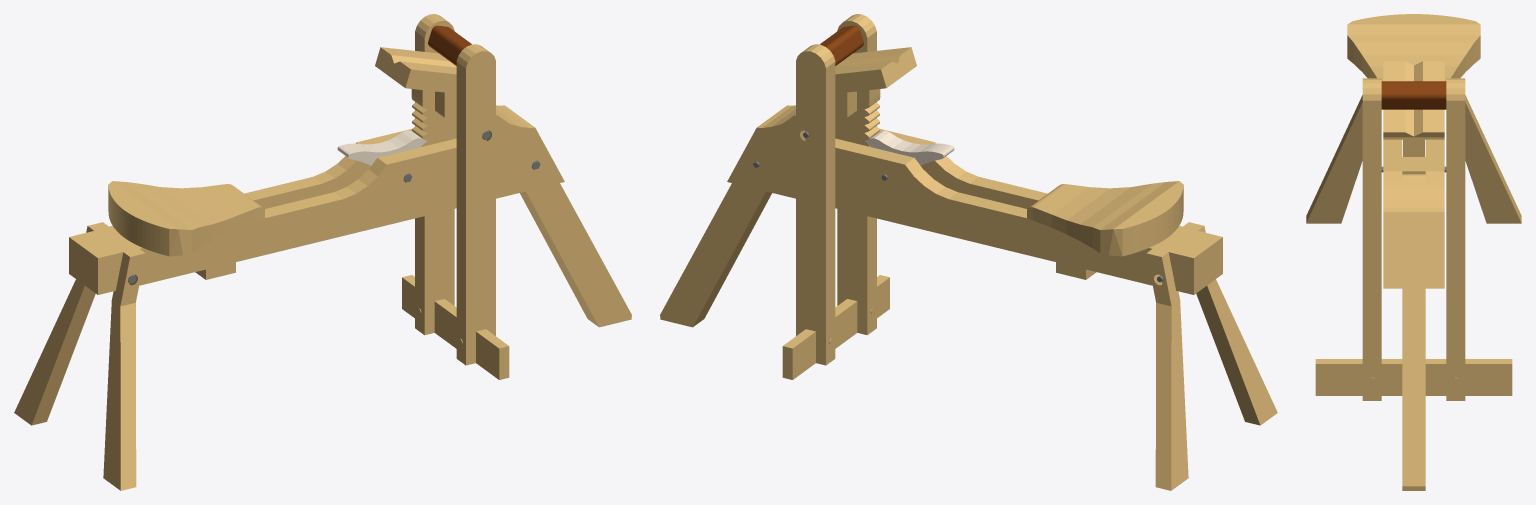
The picture shows the model from 3 angles, left to right: view 1: azimuth 30°, elevation 25°; view 2: azimuth 150°, elevation 25°; view 3: azimuth 270°, elevation 25°; orthographic projection.
Parts seen in each view (by area): view 1: Body_Bench_1, Treadle_Treadle_Beam, Legs_Leg_Rear_1, Legs_Leg_Front, Seat_Seat__2, Treadle_Treadle_Beam_1, Legs_Leg_Rear, Body_Bench, Seat_Seat__2_1, Jaw_Lower_Assy_Jaw_Lower, Treadle_Treadle_Foot_Peg, Rachet_Dove (+2 smaller); view 2: Body_Bench, Treadle_Treadle_Beam_1, Legs_Leg_Rear, Legs_Leg_Front, Seat_Seat__2_1, Treadle_Treadle_Beam, Legs_Leg_Rear_1, Body_Bench_1, Seat_Seat__2, Jaw_Lower_Assy_Jaw_Lower, Treadle_Treadle_Foot_Peg, Rachet_Dove (+2 smaller); view 3: Legs_Leg_Front, Treadle_Treadle_Beam, Treadle_Treadle_Beam_1, Treadle_Treadle_Foot_Peg, Seat_Seat__2_1, Seat_Seat__2, Legs_Leg_Rear, Legs_Leg_Rear_1, Jaw_Lower_Assy_Jaw_Lower, Body_Bench, Body_Bench_1, Treadle_Treadle_Jaw_Upper_Treadle_Jaw_Upper__8 (+3 smaller).
Boxes of the visible parts, x1,y1,x2,y2 form: Body_Bench_1: (89, 114, 564, 294); Treadle_Treadle_Beam: (456, 44, 495, 365); Legs_Leg_Rear_1: (103, 247, 145, 490); Legs_Leg_Front: (496, 110, 631, 327); Seat_Seat__2: (124, 195, 264, 256); Treadle_Treadle_Beam_1: (415, 14, 454, 335); Legs_Leg_Rear: (14, 222, 111, 425); Body_Bench: (69, 105, 513, 279); Seat_Seat__2_1: (108, 181, 247, 237); Jaw_Lower_Assy_Jaw_Lower: (375, 47, 456, 93); Treadle_Treadle_Foot_Peg: (402, 275, 509, 379); Rachet_Dove: (337, 130, 426, 165); Body_Bench: (727, 114, 1202, 294); Treadle_Treadle_Beam_1: (796, 44, 835, 365); Legs_Leg_Rear: (1146, 247, 1188, 490); Legs_Leg_Front: (660, 110, 795, 327); Seat_Seat__2_1: (1027, 195, 1167, 256); Treadle_Treadle_Beam: (837, 14, 876, 335); Legs_Leg_Rear_1: (1180, 222, 1277, 425); Body_Bench_1: (778, 105, 1222, 279); Seat_Seat__2: (1044, 181, 1183, 237); Jaw_Lower_Assy_Jaw_Lower: (835, 47, 916, 93); Treadle_Treadle_Foot_Peg: (782, 275, 889, 379); Rachet_Dove: (865, 130, 954, 165); Legs_Leg_Front: (1402, 174, 1425, 490); Treadle_Treadle_Beam: (1362, 78, 1381, 400); Treadle_Treadle_Beam_1: (1446, 78, 1465, 400); Treadle_Treadle_Foot_Peg: (1315, 359, 1512, 395); Seat_Seat__2_1: (1414, 14, 1480, 81); Seat_Seat__2: (1347, 14, 1413, 81); Legs_Leg_Rear: (1465, 95, 1521, 223); Legs_Leg_Rear_1: (1306, 95, 1362, 223); Jaw_Lower_Assy_Jaw_Lower: (1383, 61, 1444, 137); Body_Bench: (1425, 139, 1444, 288); Body_Bench_1: (1383, 139, 1402, 288); Treadle_Treadle_Jaw_Upper_Treadle_Jaw_Upper__8: (1381, 87, 1413, 103).
Bounding box in the file's own units: 55.53 × 30.8 × 18.38.
